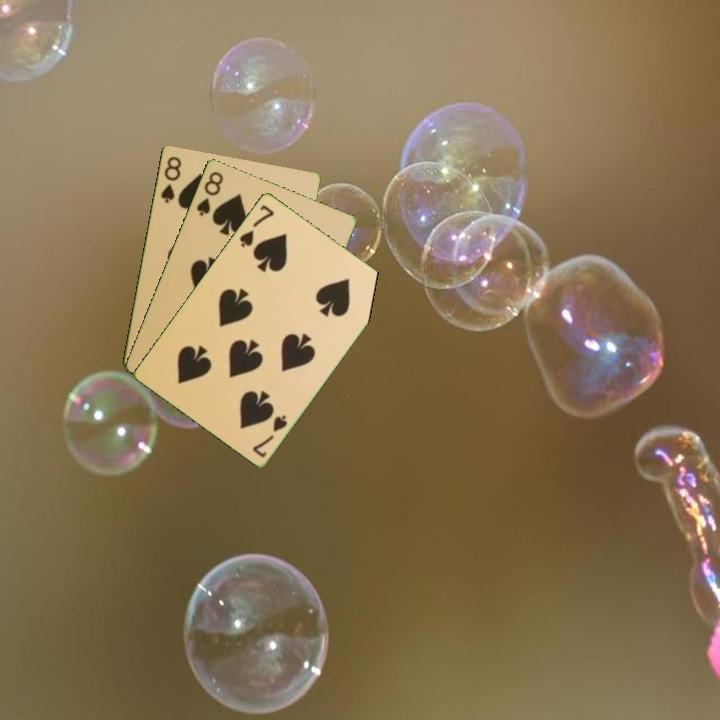7s: (236, 201, 277, 250), (249, 411, 290, 460)
8s: (193, 167, 226, 219), (157, 152, 184, 206)
